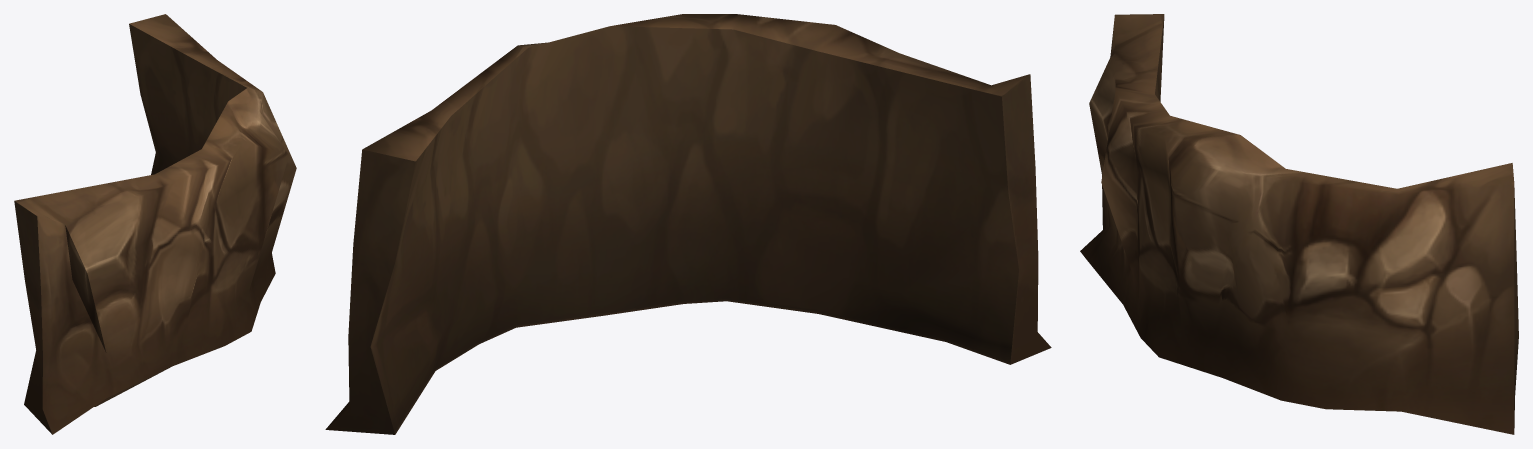
The model's file is Wall_cave_curved_02.fbx.
The picture shows the model from 3 angles, left to right: view 1: azimuth 30°, elevation 25°; view 2: azimuth 150°, elevation 25°; view 3: azimuth 270°, elevation 25°; orthographic projection. The views are drawn at different scales.
Visible parts, largest first — view 1: Wall_cave_curved_02; view 2: Wall_cave_curved_02; view 3: Wall_cave_curved_02.
Part boxes in pixels (left/top/right/bottom): Wall_cave_curved_02: left=14, top=14, right=296, bottom=434; Wall_cave_curved_02: left=325, top=14, right=1051, bottom=434; Wall_cave_curved_02: left=1080, top=14, right=1518, bottom=434.
Bounding box in the file's own units: 554 × 351 × 551.
